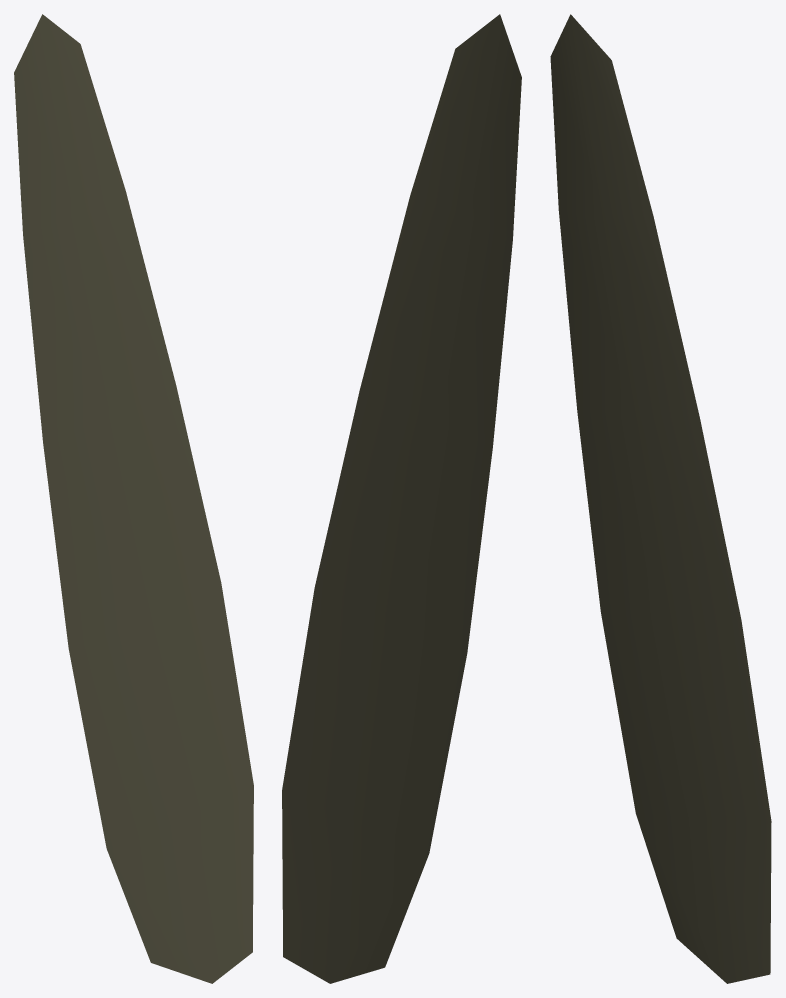
Rendered from finch_feather_flight_primary_008.obj.
The picture shows the model from 3 angles, left to right: view 1: azimuth 30°, elevation 25°; view 2: azimuth 150°, elevation 25°; view 3: azimuth 330°, elevation 25°; orthographic projection. The views are drawn at different scales.
Visible parts, largest first — view 1: feather_flight_primary_008; view 2: feather_flight_primary_008; view 3: feather_flight_primary_008.
Boxes of the visible parts, <box> form: feather_flight_primary_008: <box>14,14,253,983</box>; feather_flight_primary_008: <box>282,14,521,983</box>; feather_flight_primary_008: <box>550,14,771,983</box>.
Bounding box in the file's own units: 0.0128 × 0.0516 × 0.000301.
